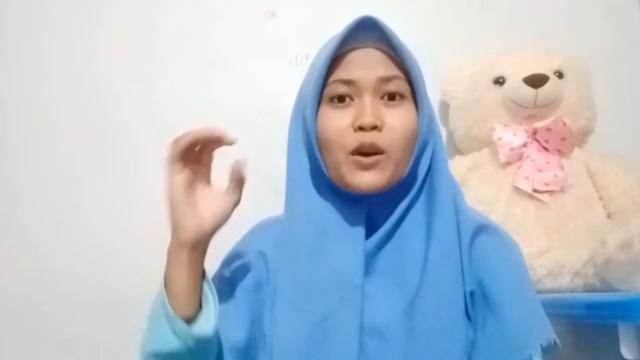O: (164, 120, 250, 241)
